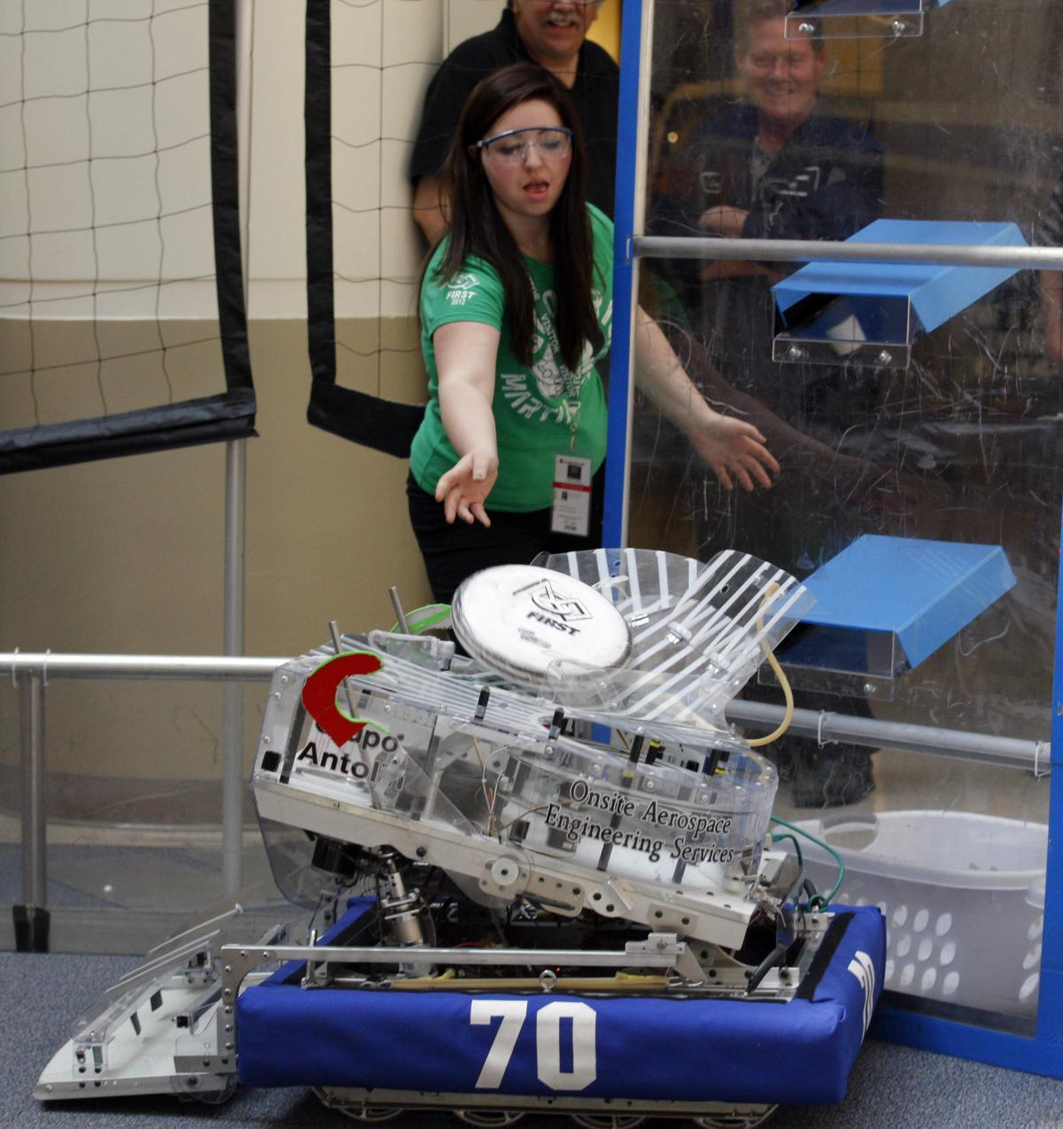robot: (37, 509, 911, 1129)
